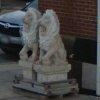Statue: (16, 3, 82, 84)
